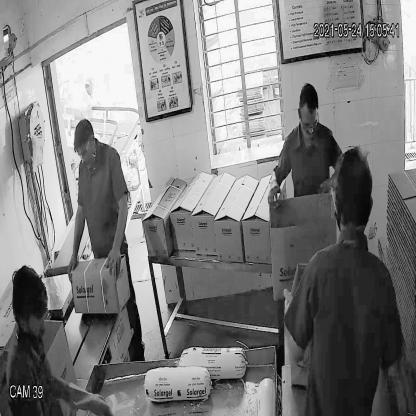goggles: (75, 142, 93, 160)
